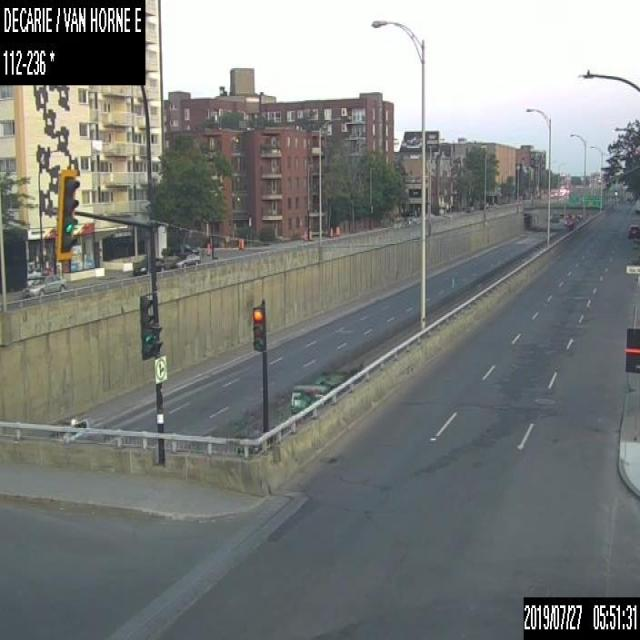construction: (206, 242, 210, 255), (240, 237, 244, 249), (328, 226, 332, 236), (308, 231, 312, 239), (336, 223, 339, 233)
vehicle: (289, 360, 364, 416), (21, 274, 65, 296), (48, 415, 89, 437), (131, 253, 165, 275), (171, 252, 199, 268), (626, 223, 639, 237)
